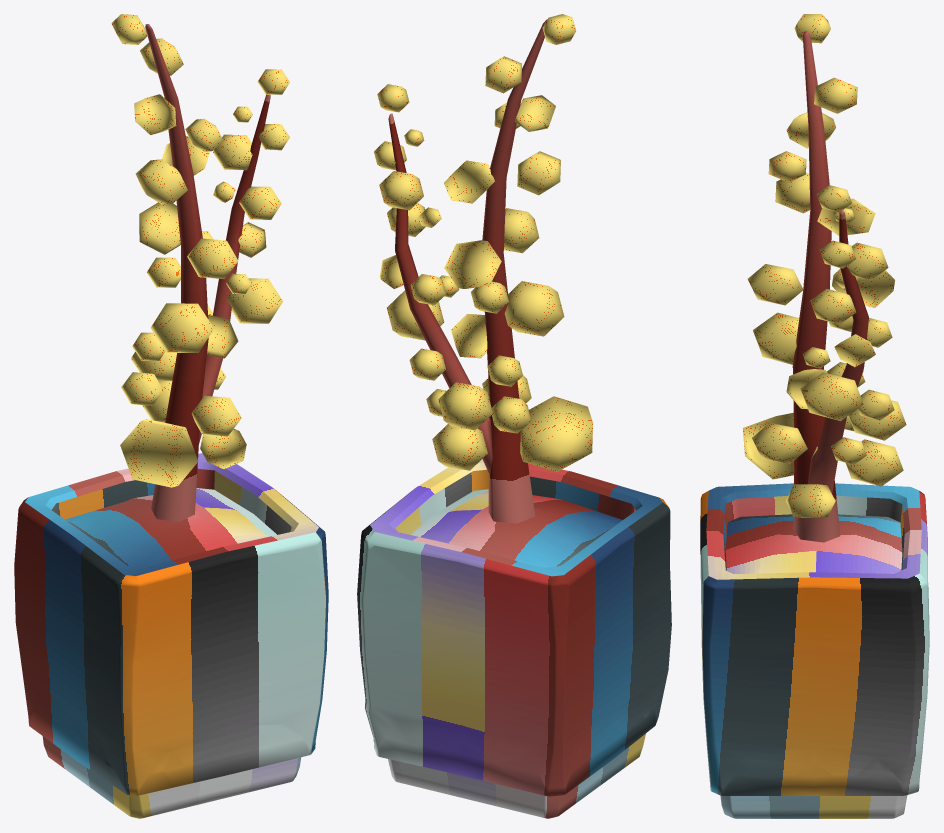
The model's file is CharSkyKid_Prop_AP17Plants.glb.
3 views of the same model, side by side, from view 1: azimuth 30°, elevation 25°; view 2: azimuth 150°, elevation 25°; view 3: azimuth 270°, elevation 25° (orthographic). The views are drawn at different scales.
Visible parts, largest first — view 1: CharSkyKid_Prop_AP17Plants; view 2: CharSkyKid_Prop_AP17Plants; view 3: CharSkyKid_Prop_AP17Plants.
Part boxes in pixels (x1,y1,x2,y2): CharSkyKid_Prop_AP17Plants: (14,14,328,818); CharSkyKid_Prop_AP17Plants: (357,14,671,818); CharSkyKid_Prop_AP17Plants: (700,14,929,818).
Size of the model in its own units: 1.04 by 3.27 by 0.9082.
1 material, 1 textured.
